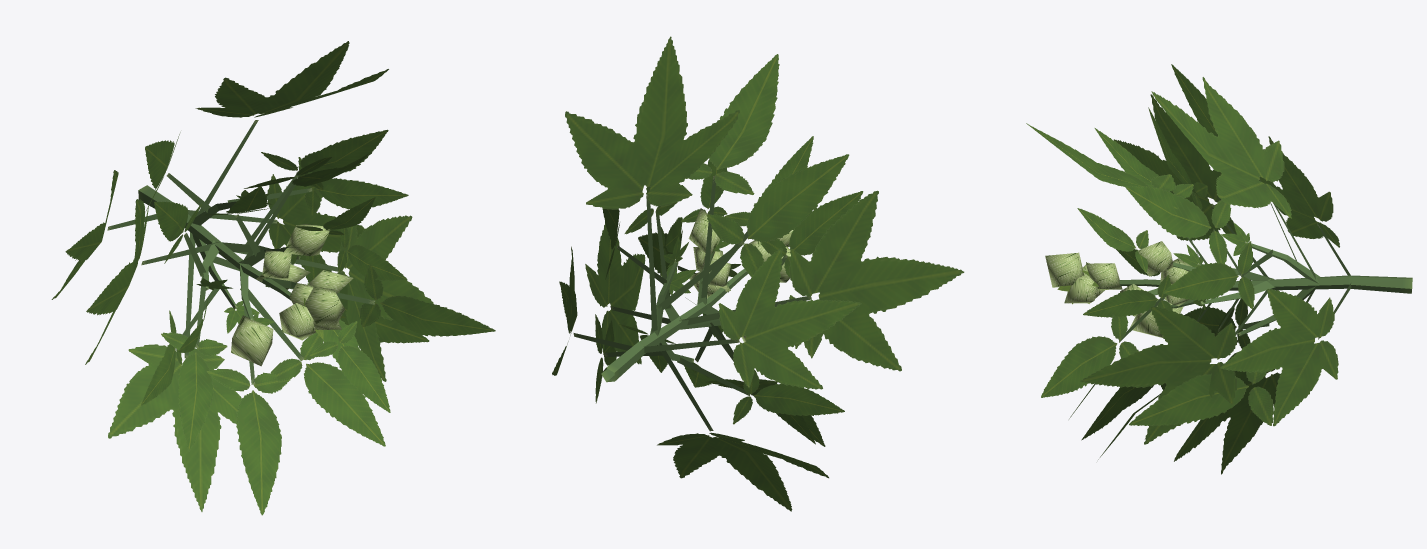
File: p_male_auto_preflower_c0_cards.obj
3 renders of one model, left to right at view 1: azimuth 30°, elevation 25°; view 2: azimuth 150°, elevation 25°; view 3: azimuth 270°, elevation 25°, orthographic. The views are drawn at different scales.
Bounding box in the file's own units: 1.04 × 1.25 × 0.868.
1 material, 1 textured.
